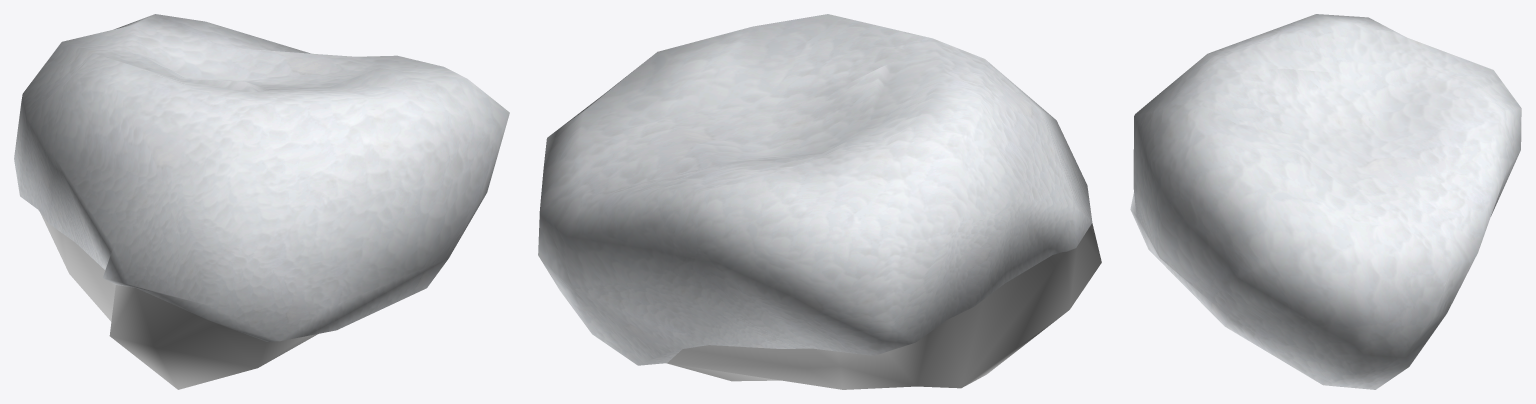
The model's file is rock_s06b.fbx.
3 views of the same model, side by side, from view 1: azimuth 30°, elevation 25°; view 2: azimuth 150°, elevation 25°; view 3: azimuth 270°, elevation 25° (orthographic). The views are drawn at different scales.
Parts seen in each view (by area): view 1: rock_s06b; view 2: rock_s06b; view 3: rock_s06b.
Boxes of the visible parts, <box> form: rock_s06b: <box>14,14,509,389</box>; rock_s06b: <box>538,14,1101,389</box>; rock_s06b: <box>1130,14,1521,389</box>.
Bounding box in the file's own units: 348 × 222 × 307.
